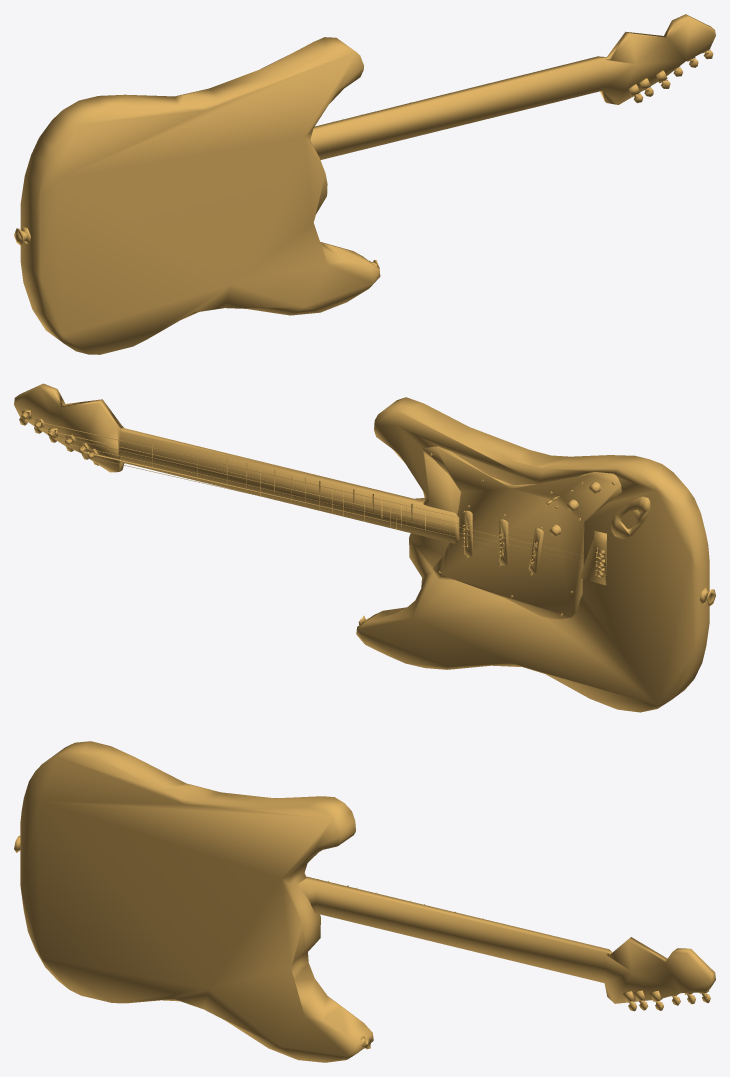
Rendered from guitar.fbx.
The picture shows the model from 3 angles, top to bottom: view 1: azimuth 30°, elevation 25°; view 2: azimuth 150°, elevation 25°; view 3: azimuth 330°, elevation 25°; orthographic projection.
Parts seen in each view (by area): view 1: chitarra:pCylinder11; view 2: chitarra:pCylinder11; view 3: chitarra:pCylinder11.
Boxes of the visible parts, left/top/right/bottom form: chitarra:pCylinder11: left=14, top=14, right=715, bottom=354; chitarra:pCylinder11: left=14, top=383, right=715, bottom=712; chitarra:pCylinder11: left=14, top=741, right=715, bottom=1062.
Size of the model in its own units: 238 by 83.99 by 13.85.
